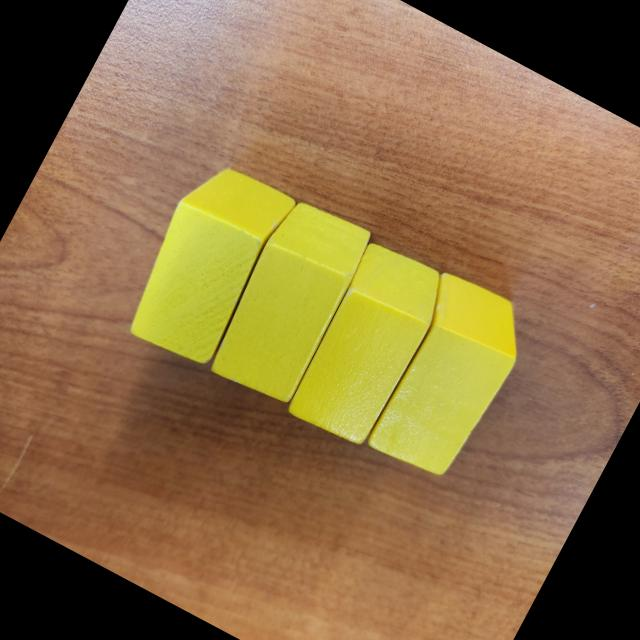yellow: (350, 264, 540, 490), (112, 152, 298, 378), (278, 235, 456, 456), (200, 190, 378, 410)
